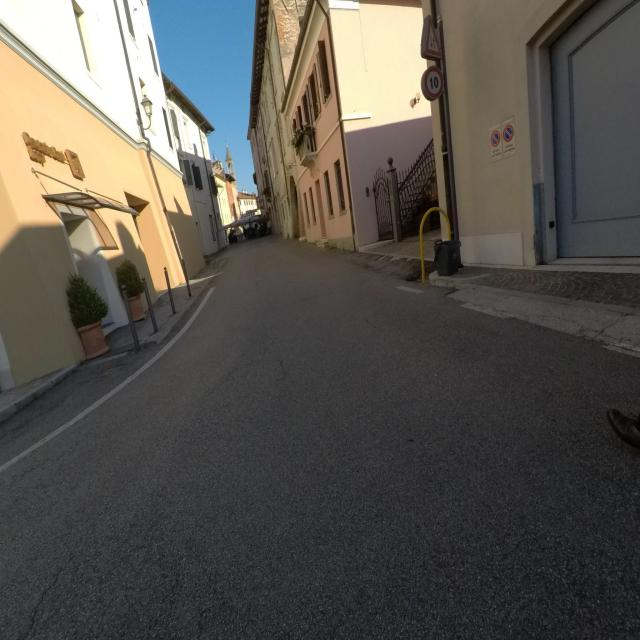car: (225, 222, 244, 244)
